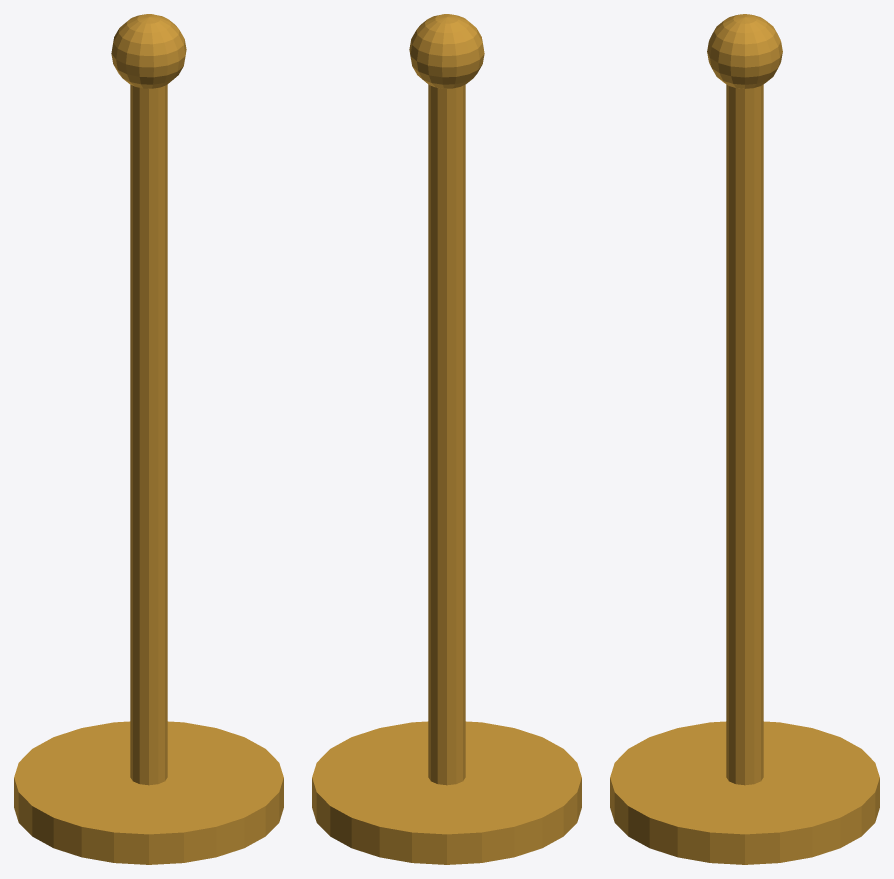
The model's file is stanchion.glb.
3 views of the same model, side by side, from view 1: azimuth 30°, elevation 25°; view 2: azimuth 150°, elevation 25°; view 3: azimuth 270°, elevation 25° (orthographic).
Parts seen in each view (by area): view 1: stanchion_brass; view 2: stanchion_brass; view 3: stanchion_brass.
Part boxes in pixels (x1=…): stanchion_brass: x1=14, y1=14, x2=283, y2=864; stanchion_brass: x1=312, y1=14, x2=581, y2=864; stanchion_brass: x1=610, y1=14, x2=879, y2=864.
Size of the model in its own units: 0.32 by 1.03 by 0.32.
